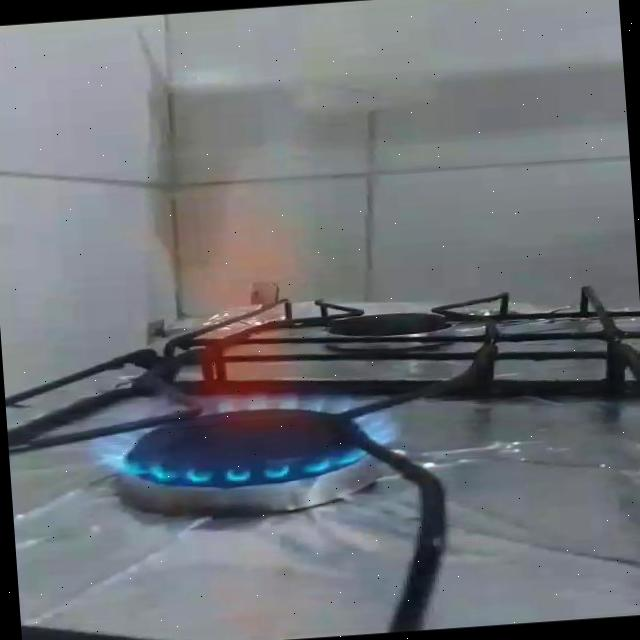fire: (70, 175, 406, 493)
